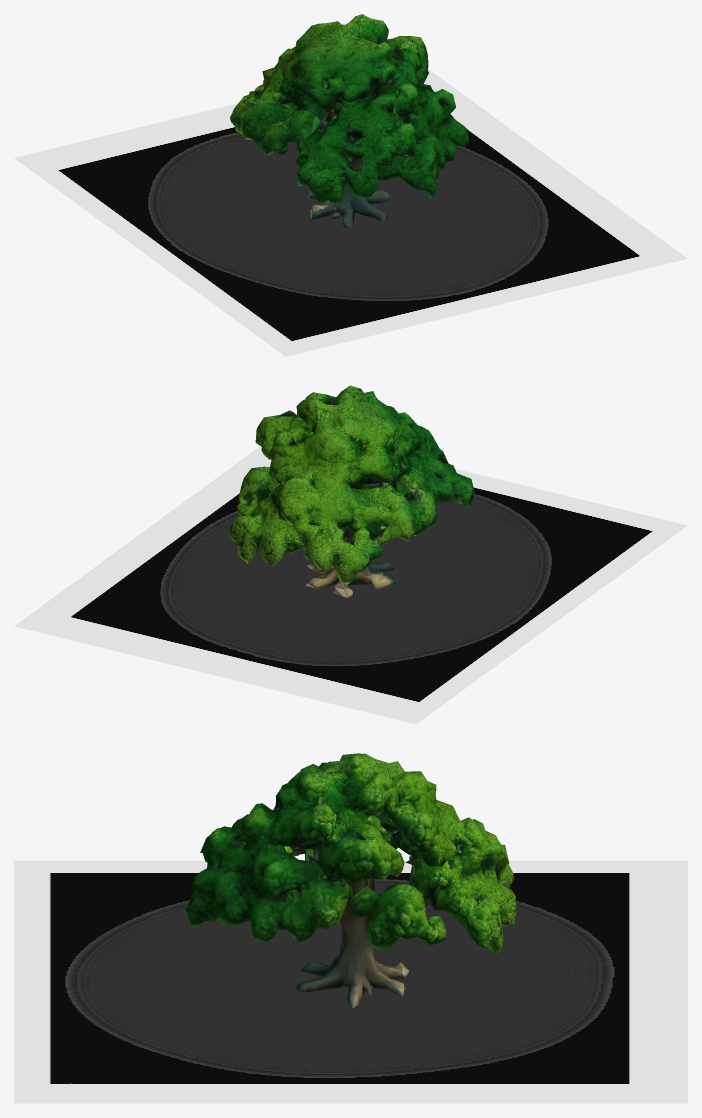
The model's file is Old.fbx.
The picture shows the model from 3 angles, top to bottom: view 1: azimuth 30°, elevation 25°; view 2: azimuth 150°, elevation 25°; view 3: azimuth 270°, elevation 25°; orthographic projection. The views are drawn at different scales.
Parts seen in each view (by area): view 1: Shadow, tripo_node_6c20fabe; view 2: Shadow, tripo_node_6c20fabe; view 3: Shadow, tripo_node_6c20fabe.
Part boxes in pixels (x1,y1,x2,y2): Shadow: [14, 69, 687, 356]; tripo_node_6c20fabe: [230, 14, 469, 227]; Shadow: [14, 446, 687, 724]; tripo_node_6c20fabe: [229, 385, 474, 597]; Shadow: [14, 860, 687, 1103]; tripo_node_6c20fabe: [185, 753, 516, 1007].
Bounding box in the file's own units: 173 × 76.17 × 203.
